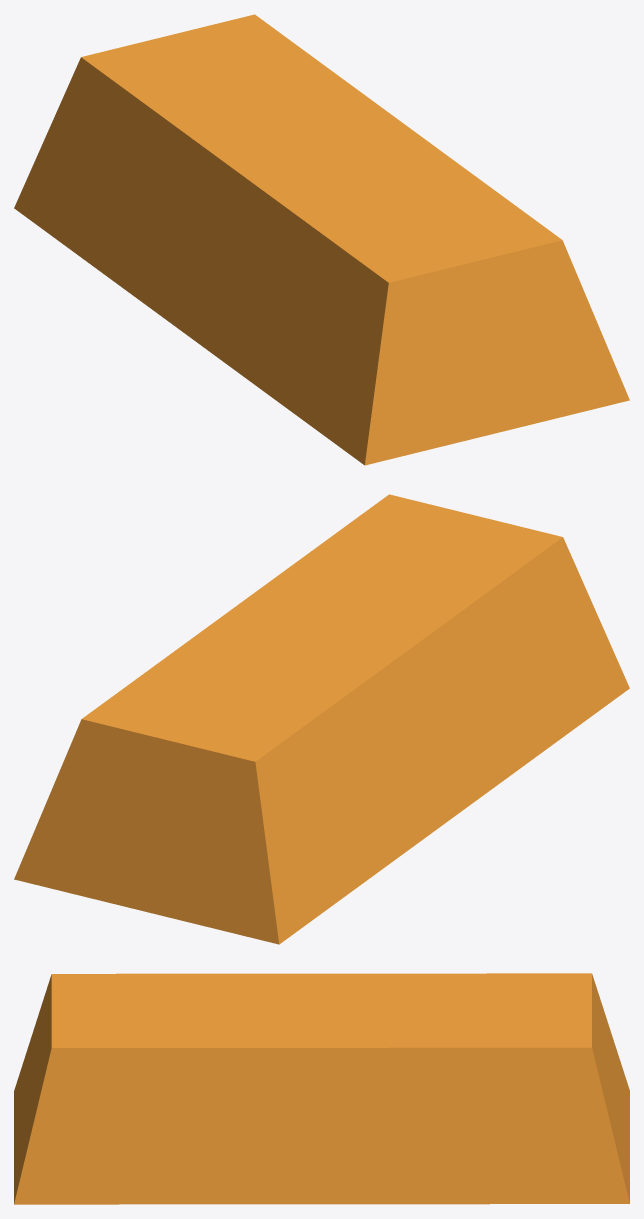
File: GoldBar.fbx
3 views of the same model, one above another, from view 1: azimuth 30°, elevation 25°; view 2: azimuth 150°, elevation 25°; view 3: azimuth 270°, elevation 25° (orthographic). The views are drawn at different scales.
Parts seen in each view (by area): view 1: GoldBar; view 2: GoldBar; view 3: GoldBar.
Part boxes in pixels (x1=…): GoldBar: x1=14, y1=14, x2=629, y2=465; GoldBar: x1=14, y1=494, x2=629, y2=944; GoldBar: x1=14, y1=973, x2=629, y2=1204.
Bounding box in the file's own units: 10.03 × 5.66 × 22.97.
1 material, 1 textured.
